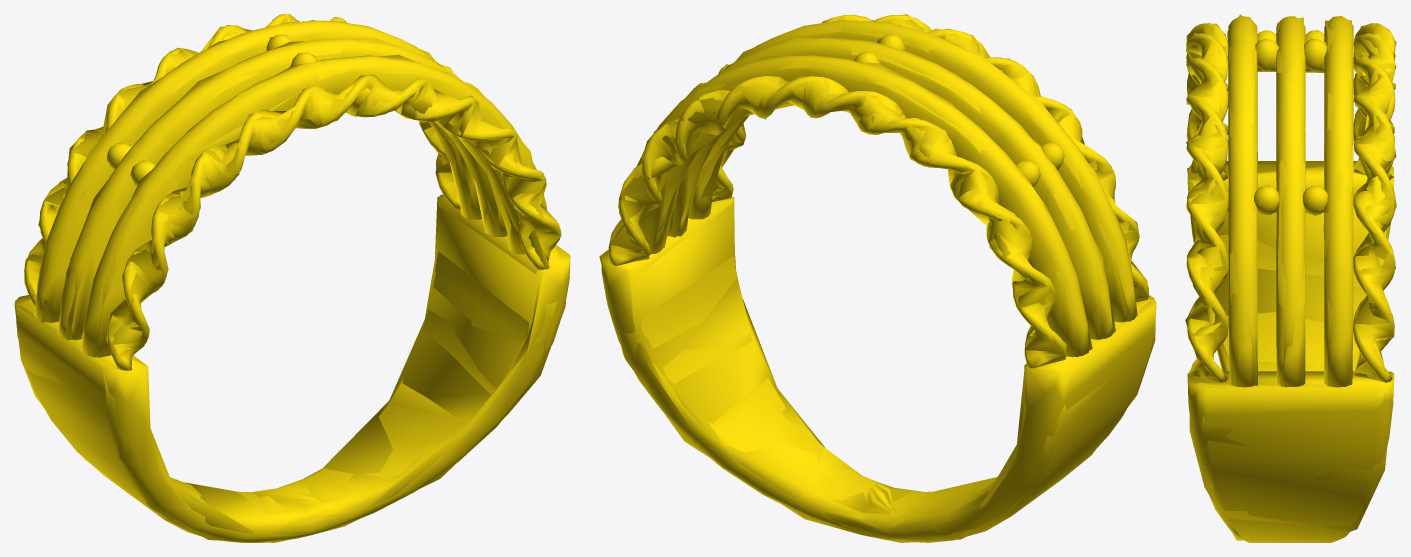
File: GLR-D000578732.glb
3 renders of one model, left to right at view 1: azimuth 30°, elevation 25°; view 2: azimuth 150°, elevation 25°; view 3: azimuth 270°, elevation 25°, orthographic.
Visible parts, largest first — view 1: highPolyMesh, lowPolyMesh; view 2: highPolyMesh, lowPolyMesh; view 3: highPolyMesh, lowPolyMesh.
Boxes of the visible parts, x1,y1,x2,y2 form: highPolyMesh: (15,14,570,542); lowPolyMesh: (14,14,569,542); highPolyMesh: (601,14,1156,542); lowPolyMesh: (599,14,1155,542); highPolyMesh: (1186,16,1395,542); lowPolyMesh: (1185,14,1396,540).
Bounding box in the file's own units: 0.0206 × 0.0202 × 0.00811.
